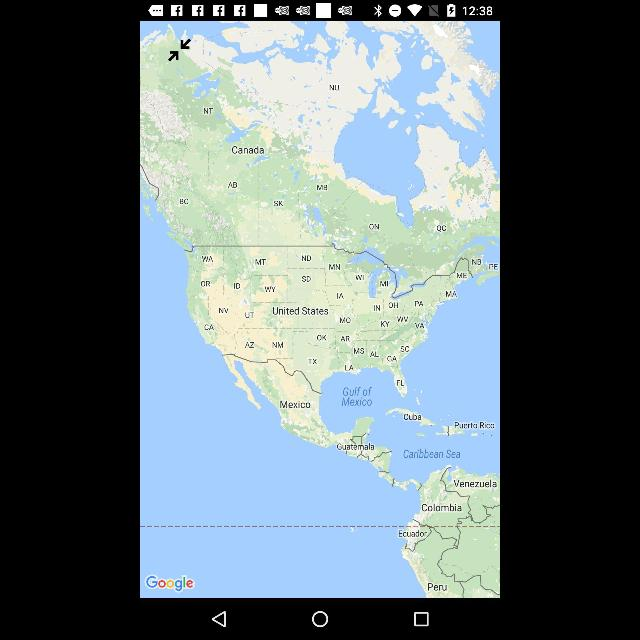icon: (312, 610, 328, 628), (212, 612, 226, 628), (414, 613, 428, 627)
map: (141, 21, 499, 598)
panel: (141, 600, 499, 640)
uppertaskbar: (140, 0, 500, 20)
